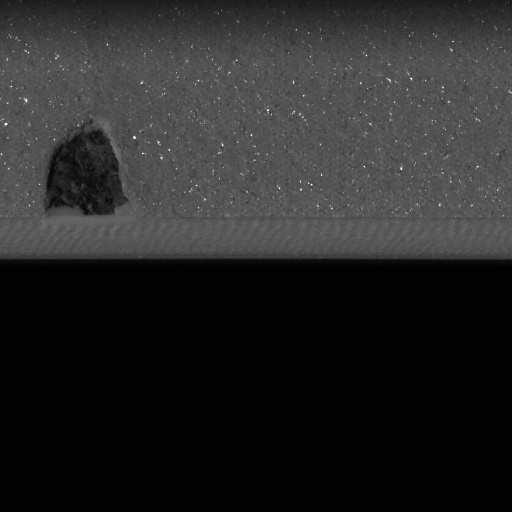bengque: (40, 119, 133, 221)
